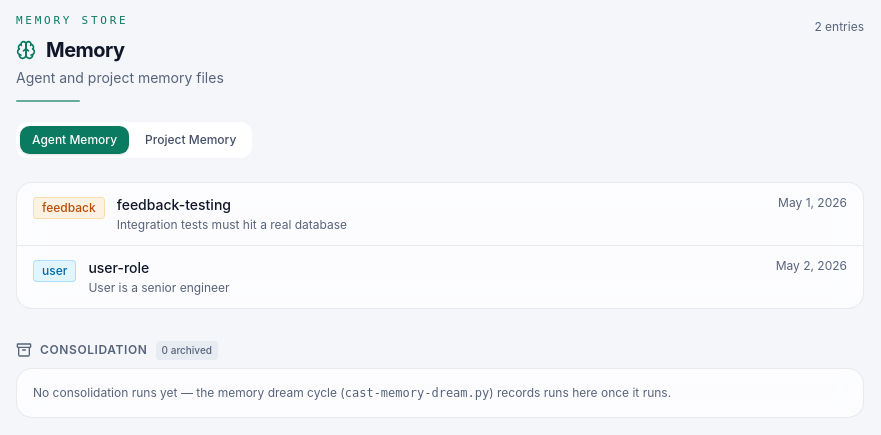
Test: MemoryView › toggles to project memory source
What coordinates should you click on to do the following:
click the button "Project Memory"
I would click on:
 (191, 140)
Its box is left=133, top=126, right=248, bottom=154.
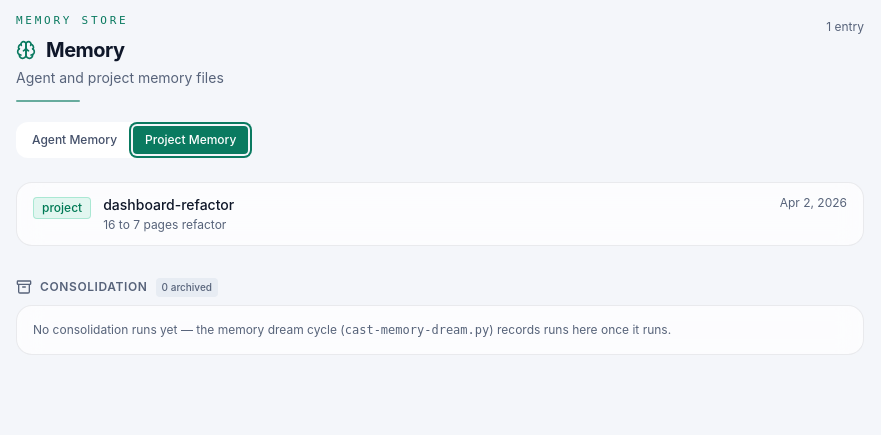
Expected: the text "dashboard-refactor" is shown, left=103, top=194, right=234, bottom=214
Expected: the button "feedback-testing" is gone
